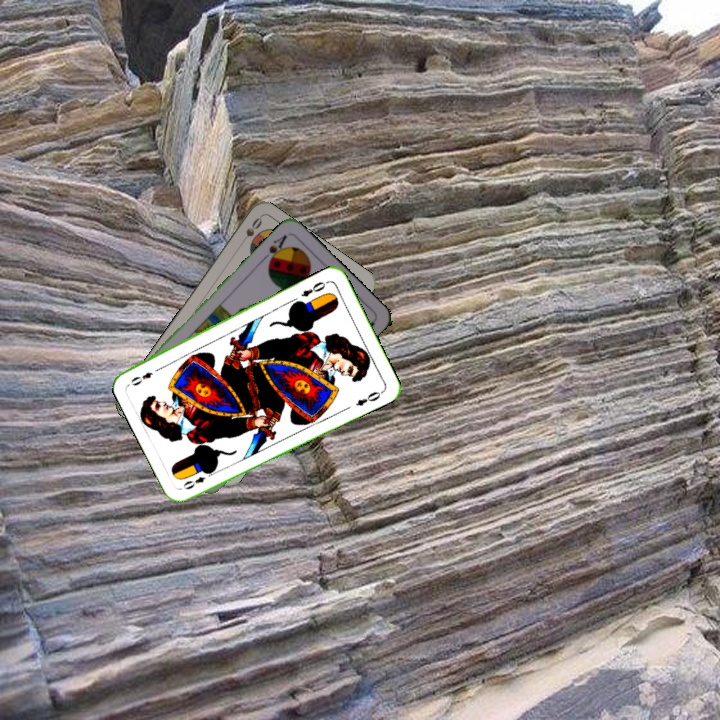EO: (179, 467, 216, 492), (297, 278, 328, 299)
SA: (258, 230, 290, 267)
SO: (235, 213, 265, 249)
